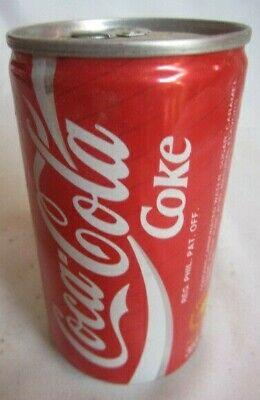metal: (7, 18, 252, 384)
